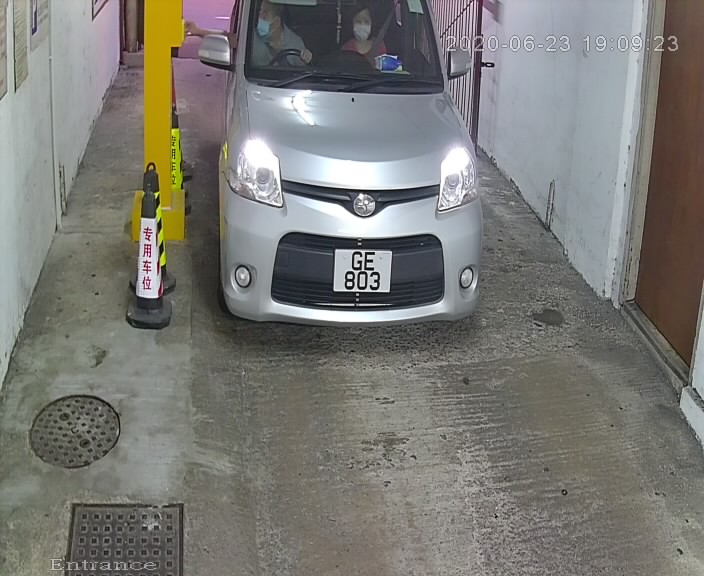privatecar: (191, 1, 493, 349)
